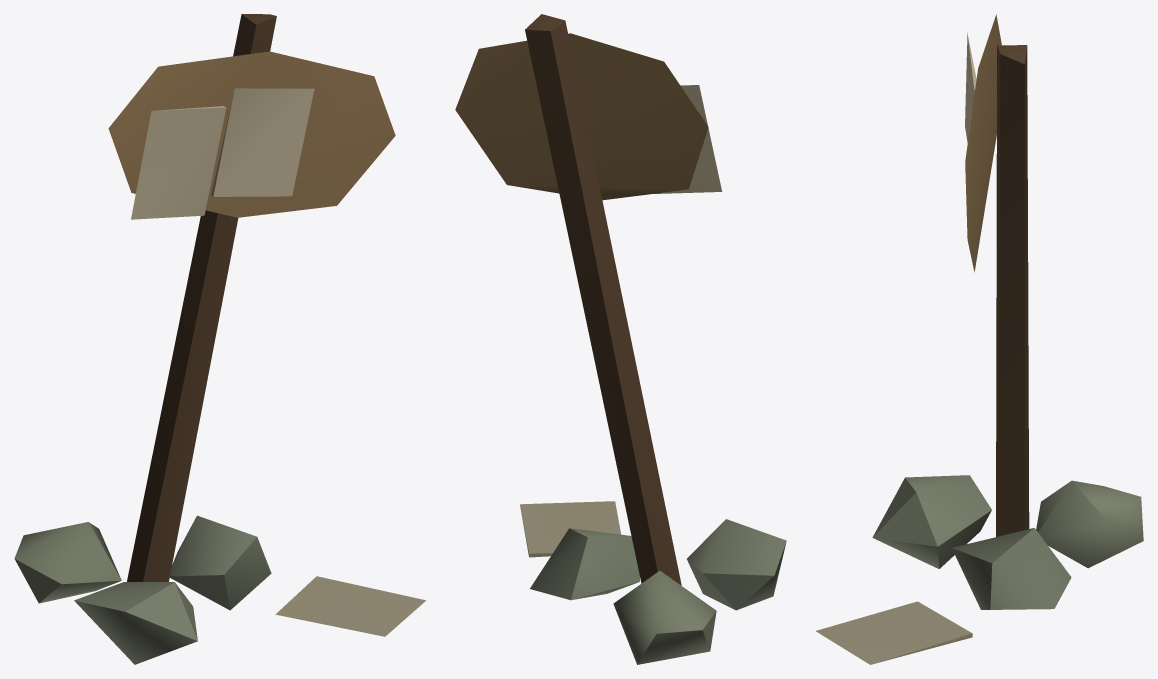
Rendered from notice_post_b_lod2.glb.
The picture shows the model from 3 angles, left to right: view 1: azimuth 30°, elevation 25°; view 2: azimuth 150°, elevation 25°; view 3: azimuth 270°, elevation 25°; orthographic projection.
Parts seen in each view (by area): view 1: Surface.001; view 2: Surface.001; view 3: Surface.001.
Part boxes in pixels (<box>): Surface.001: <box>14,14,425,664</box>; Surface.001: <box>455,14,786,664</box>; Surface.001: <box>816,14,1143,664</box>.
Size of the model in its own units: 1.28 by 2.18 by 1.11.
